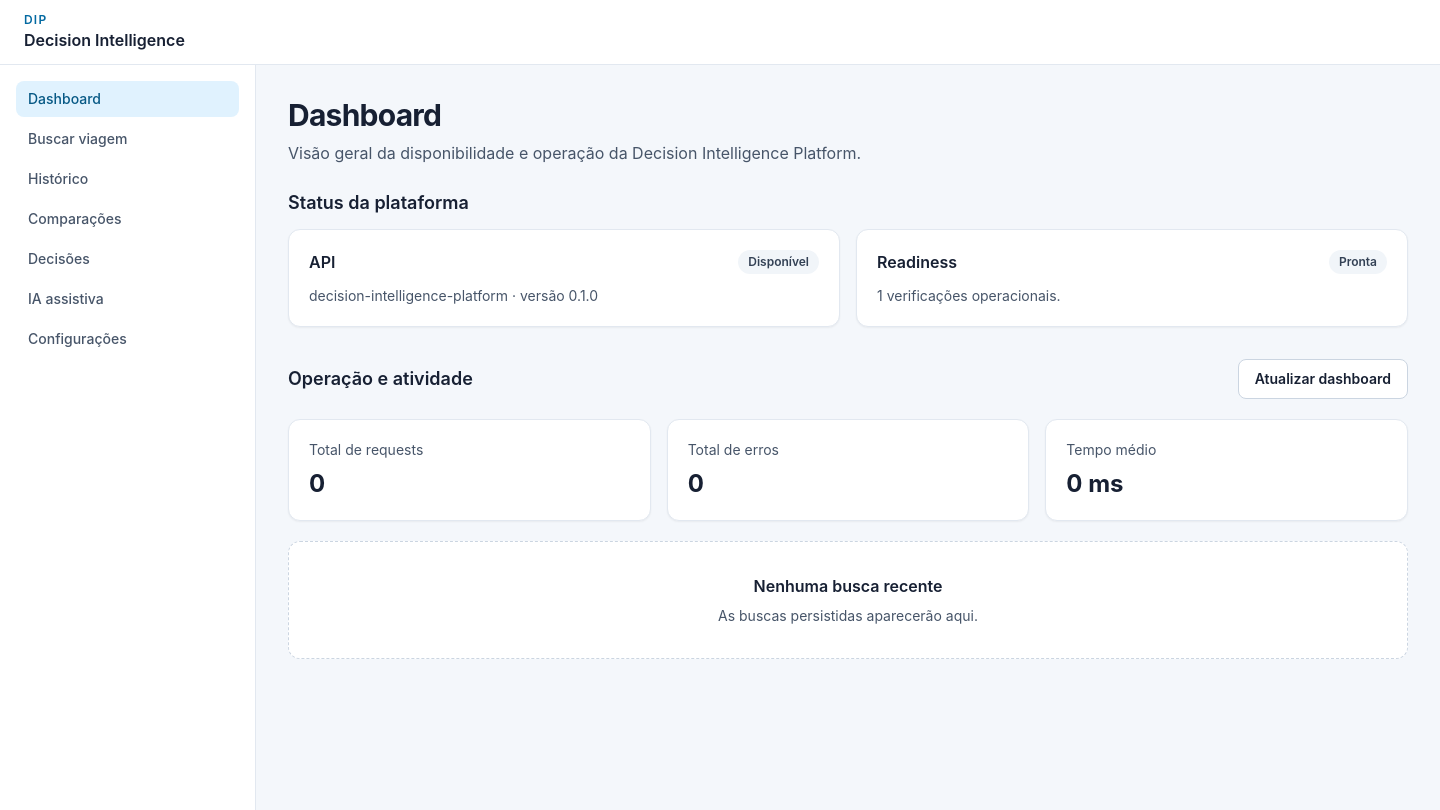
Test: navega para o estado informativo de IA assistiva
Click the link "IA assistiva" at (66, 298), box [28,290,104,307]
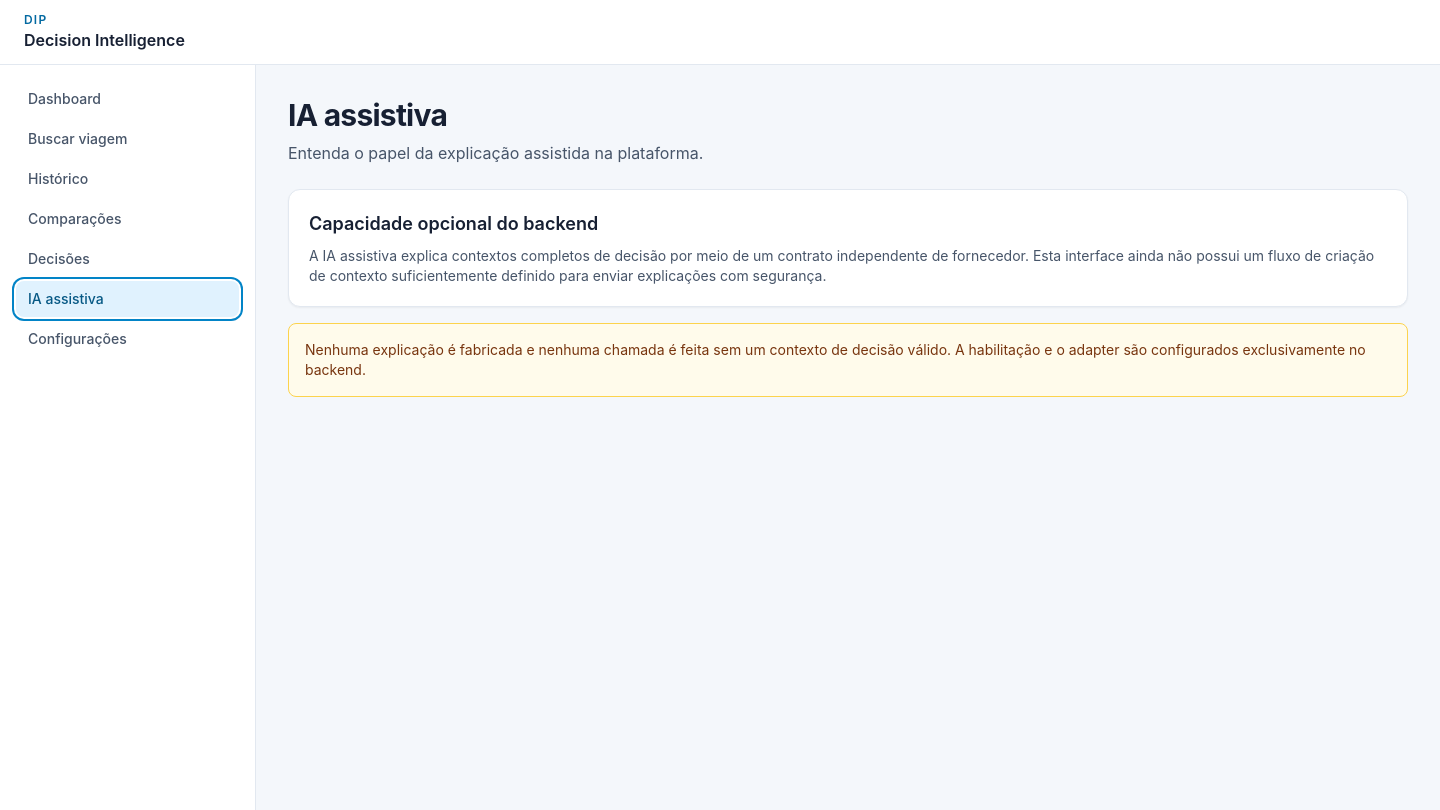
Expected: the heading "IA assistiva" is shown, [288,97,447,133]
Expected: the text "Nenhuma explicação é fabricada" is shown, [305,341,1366,378]
